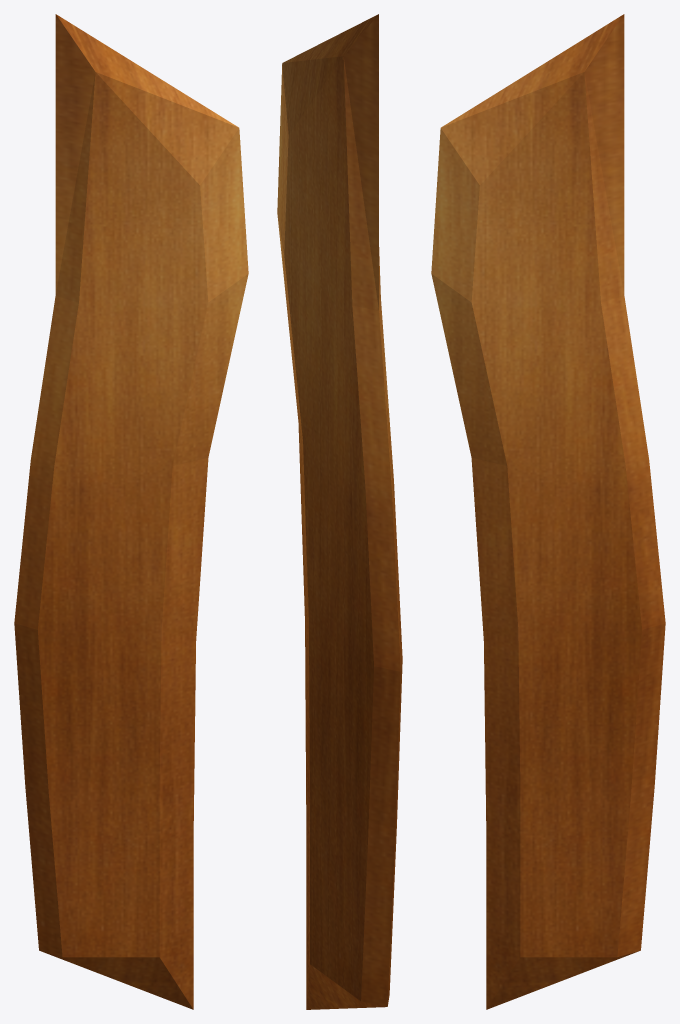
Rendered from viet_copper_knife_blade.dae.
The picture shows the model from 3 angles, left to right: view 1: azimuth 90°, elevation 25°; view 2: azimuth 210°, elevation 25°; view 3: azimuth 270°, elevation 25°; orthographic projection. The views are drawn at different scales.
Parts seen in each view (by area): view 1: Cubo.002; view 2: Cubo.002; view 3: Cubo.002.
Boxes of the visible parts, left/top/right/bottom form: Cubo.002: left=14, top=14, right=248, bottom=1009; Cubo.002: left=277, top=14, right=402, bottom=1009; Cubo.002: left=431, top=14, right=665, bottom=1009.
Bounding box in the file's own units: 0.0376 × 0.2815 × 1.32.
